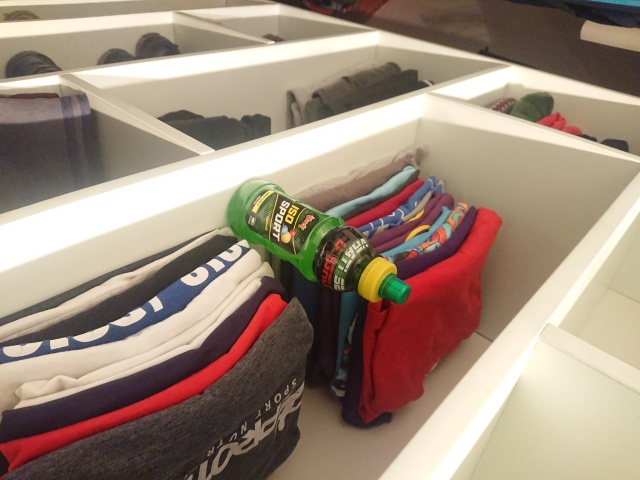Vindi Iso Sport Lemon-Grapefruit 500mL: (224, 177, 413, 307)
